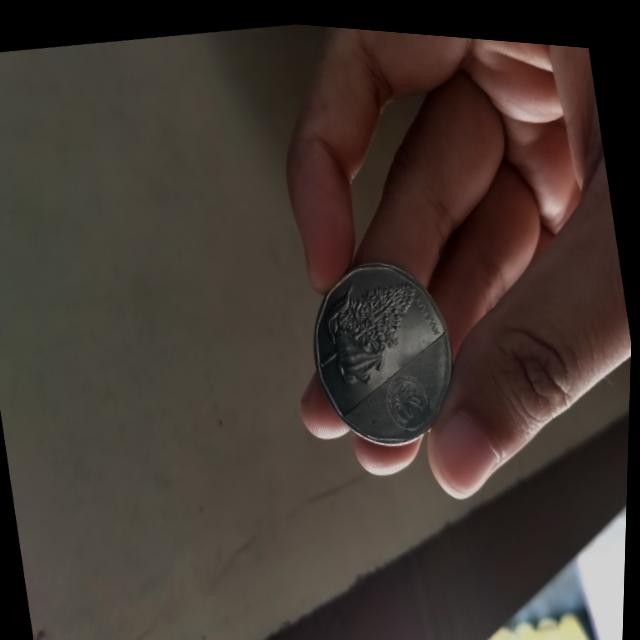10_New_Back: (293, 253, 435, 389)
